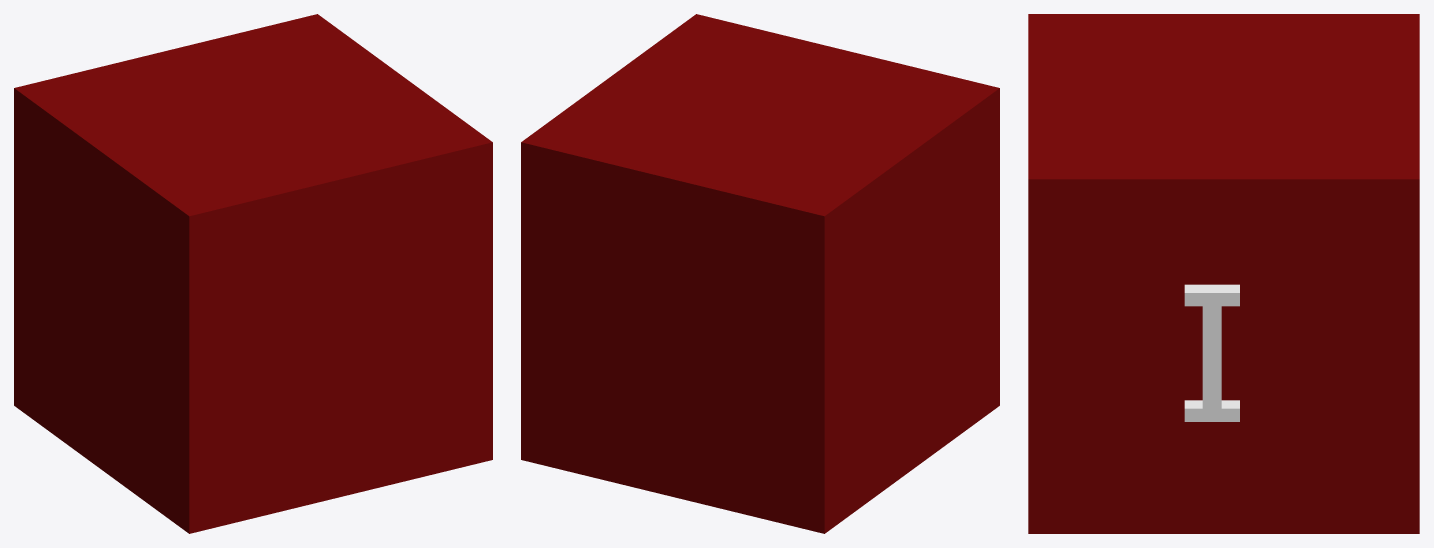
3 renders of one model, left to right at view 1: azimuth 30°, elevation 25°; view 2: azimuth 150°, elevation 25°; view 3: azimuth 270°, elevation 25°, orthographic. The views are drawn at different scales.
Parts seen in each view (by area): view 1: SketchUp; view 2: SketchUp; view 3: SketchUp, I.
Boxes of the visible parts, <box> form: SketchUp: <box>14,14,492,533</box>; SketchUp: <box>521,14,999,533</box>; SketchUp: <box>1028,14,1419,533</box>; I: <box>1184,284,1239,421</box>.
Size of the model in its own units: 21 by 20 by 20.
